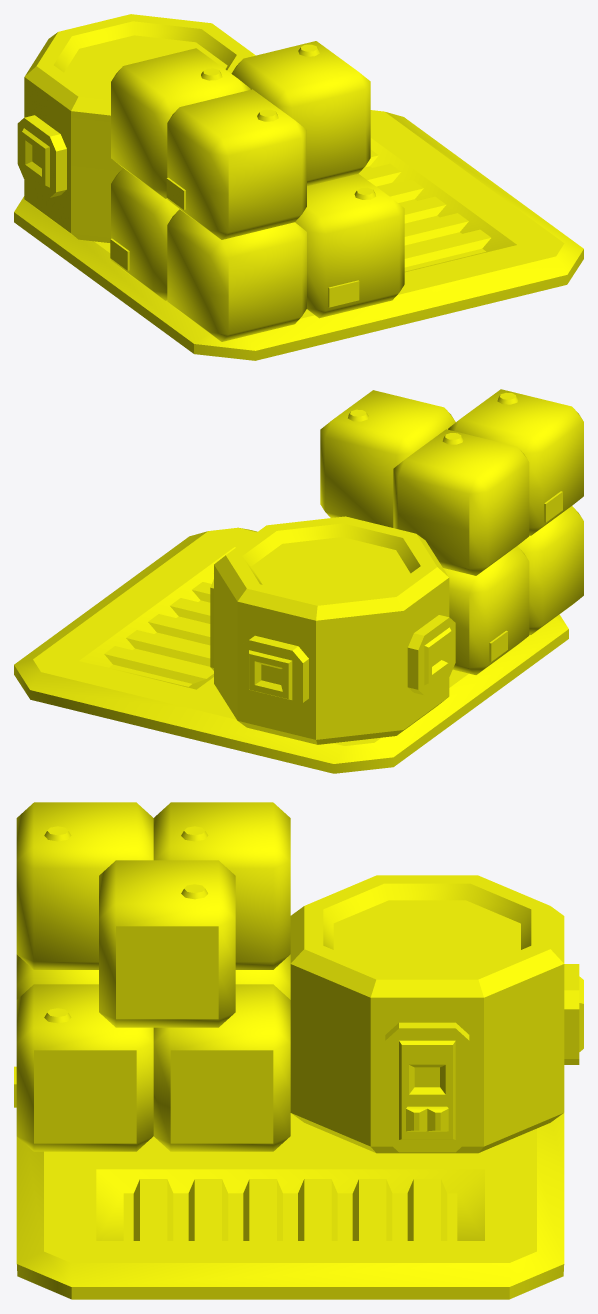
The model's file is kaykit-cargodepot-a.glb.
3 renders of one model, top to bottom at view 1: azimuth 30°, elevation 25°; view 2: azimuth 150°, elevation 25°; view 3: azimuth 270°, elevation 25°, orthographic. The views are drawn at different scales.
Visible parts, largest first — view 1: cargodepot_A; view 2: cargodepot_A; view 3: cargodepot_A.
Boxes of the visible parts, bbox=[...] form: cargodepot_A: bbox=[14, 14, 583, 360]; cargodepot_A: bbox=[14, 389, 583, 773]; cargodepot_A: bbox=[14, 802, 583, 1299].
Size of the model in its own units: 2.07 by 1.12 by 2.08.
